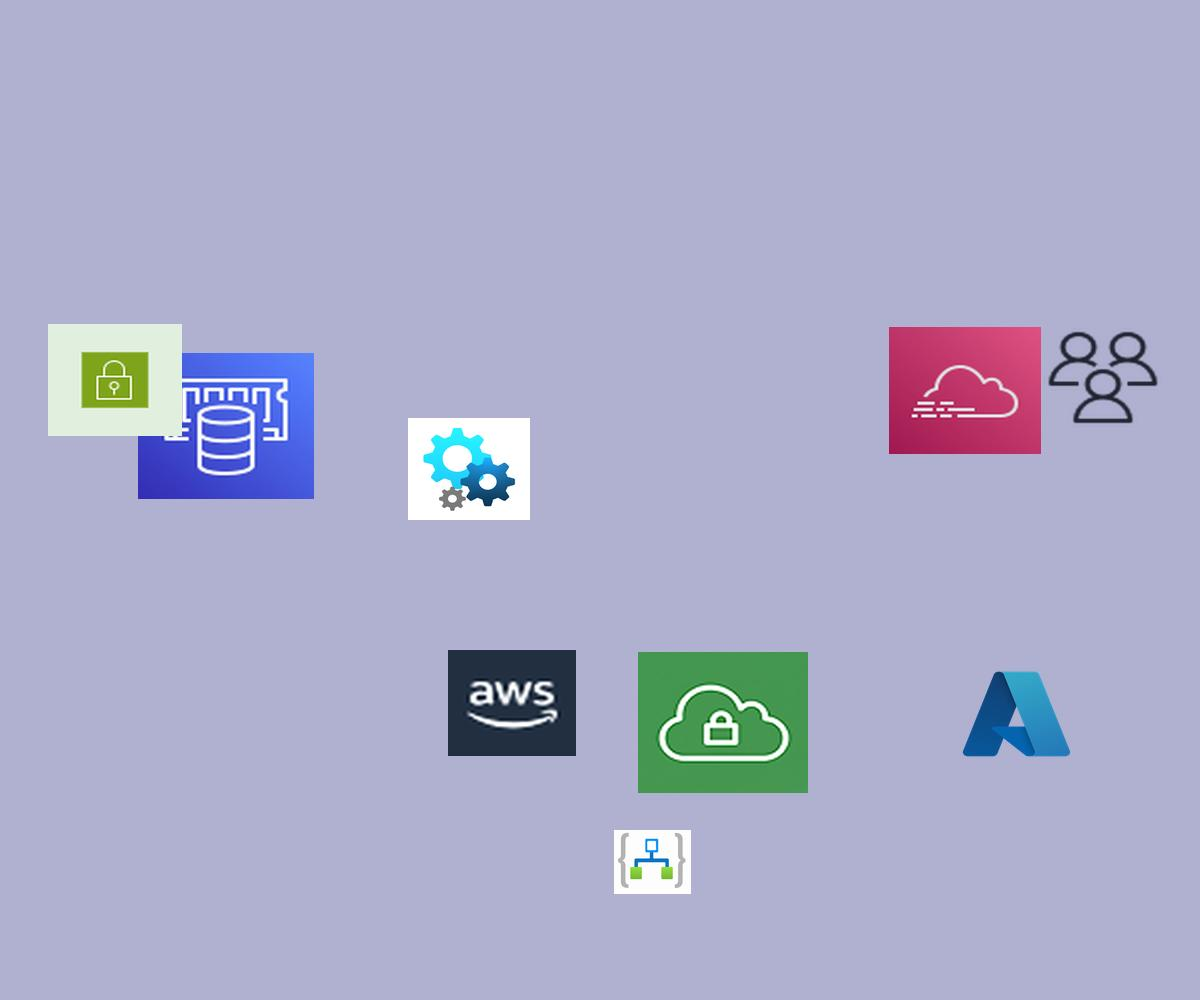AWS-Cloud-logo: (448, 650, 576, 756)
AWS-CloudTrail: (889, 327, 1041, 454)
AWS-ElastiCache: (138, 353, 314, 499)
AWS-Private_vpc: (638, 652, 808, 793)
AWS-Public-subnet: (48, 324, 182, 436)
AWS-Res_Users: (1044, 328, 1162, 427)
Azure_api: (408, 418, 530, 520)
Azure_integration-204-Logic-Apps: (614, 830, 691, 894)
Azure_services: (958, 665, 1075, 763)
